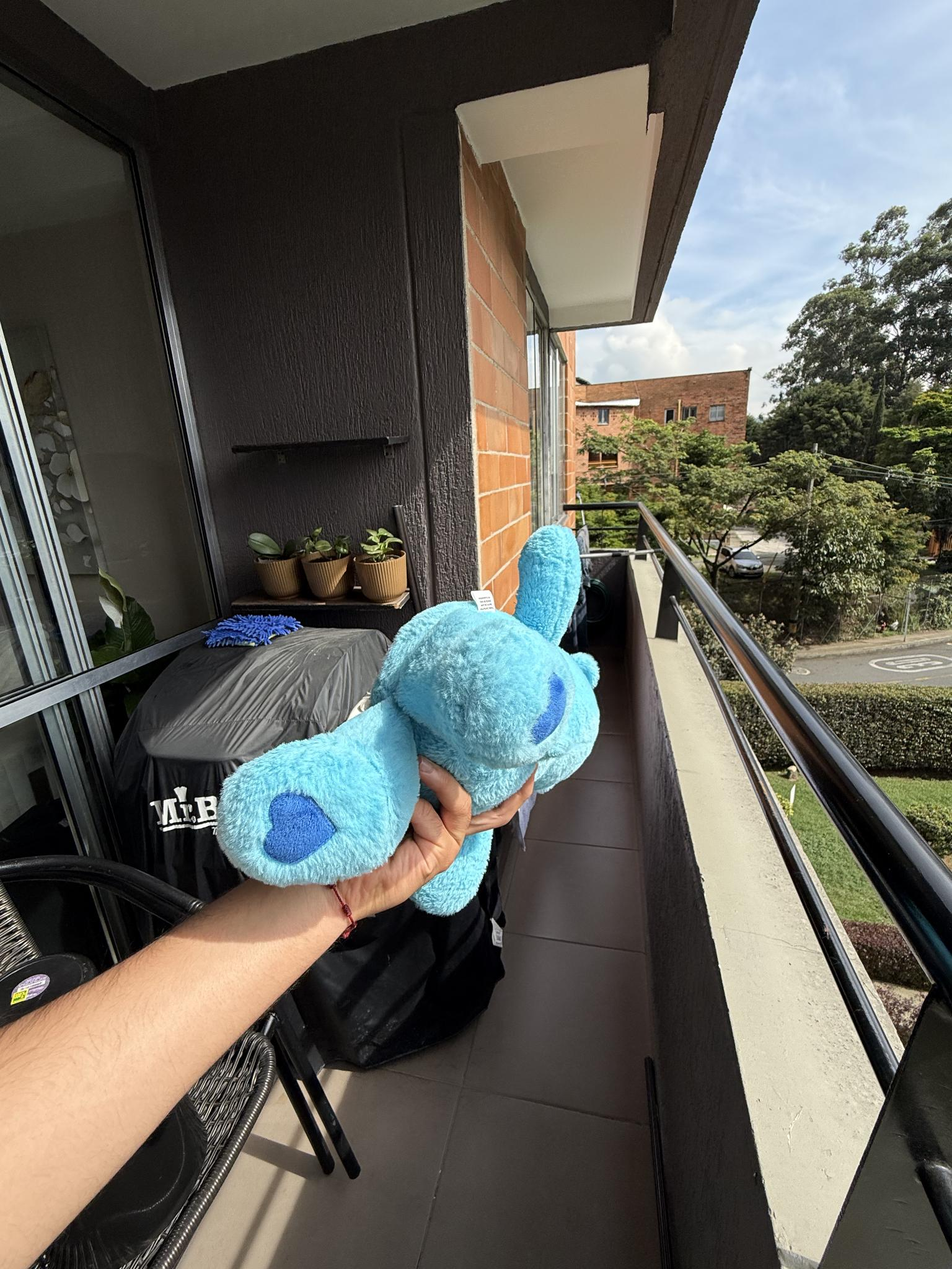peluche_Juan Jose: (217, 606, 685, 905)
